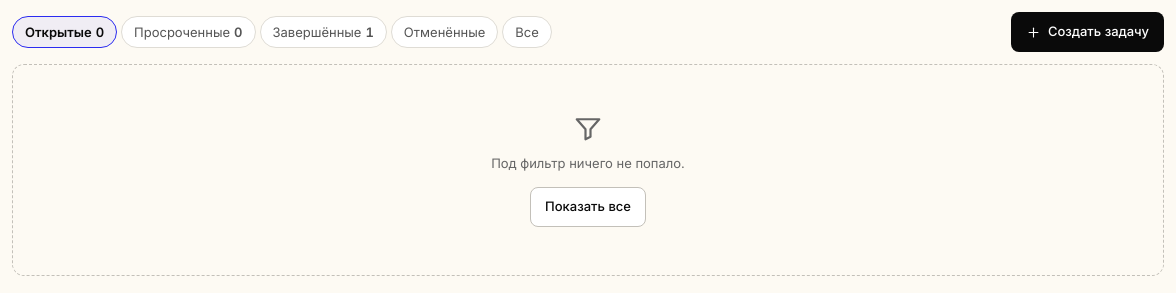
Test: OrderBizTasksTab › открытых нет, а задачи есть — не «пусто», а пустой фильтр со сбросом
The image size is (1176, 293).
Click the button "Показать все" at (588, 207), box [530, 187, 646, 227]
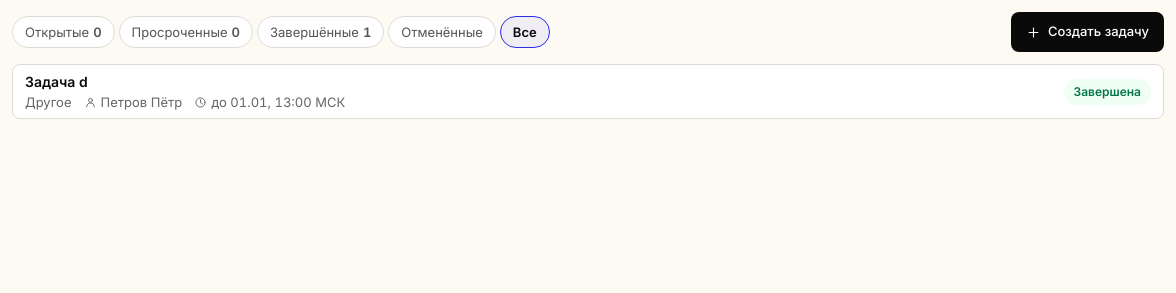
Check: the link "Задача d Другое Петров Пётр до 01.01, 13:00 МСК Завершена" is shown, box [12, 64, 1164, 119]
